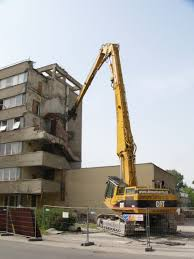excavator: (67, 42, 186, 239)
